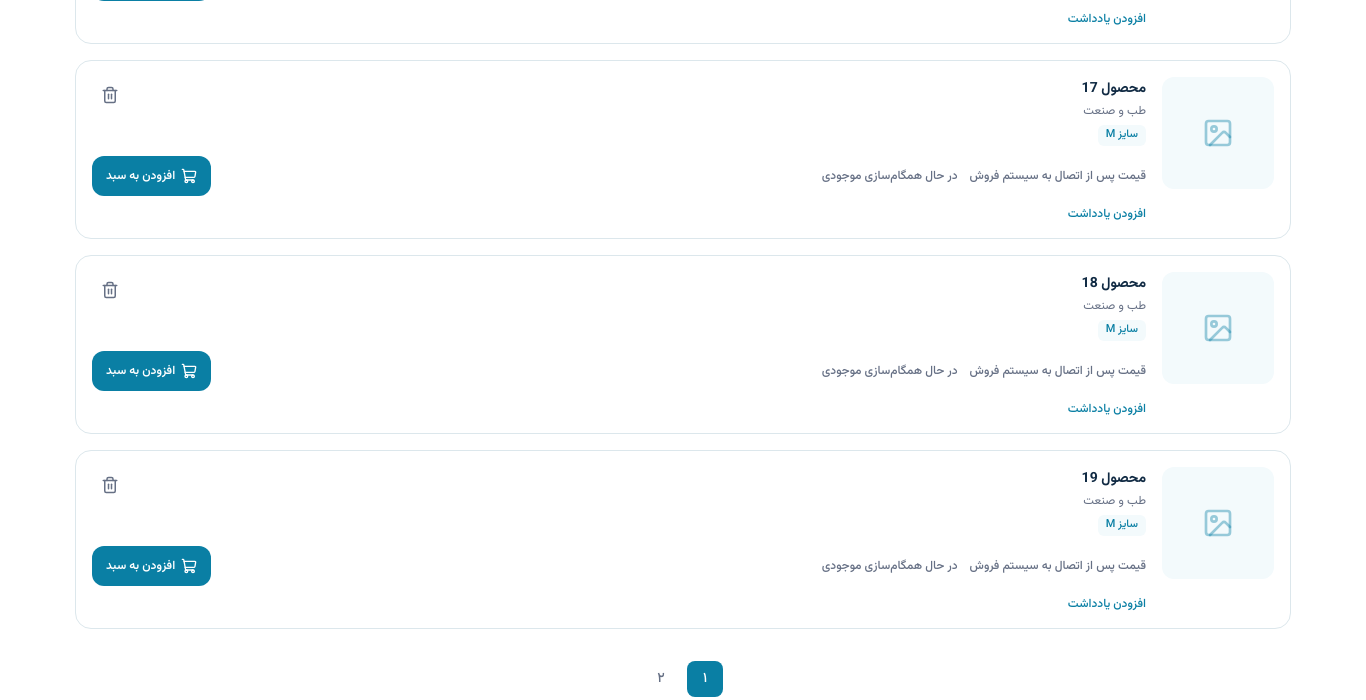
Test: WishlistPage › bounces back to the previous page when removing the last item leaves the current page empty
The image size is (1366, 700).
(page scrolled)
Click the button "۲": click(661, 679) [643,661,679,697]
(page scrolled)
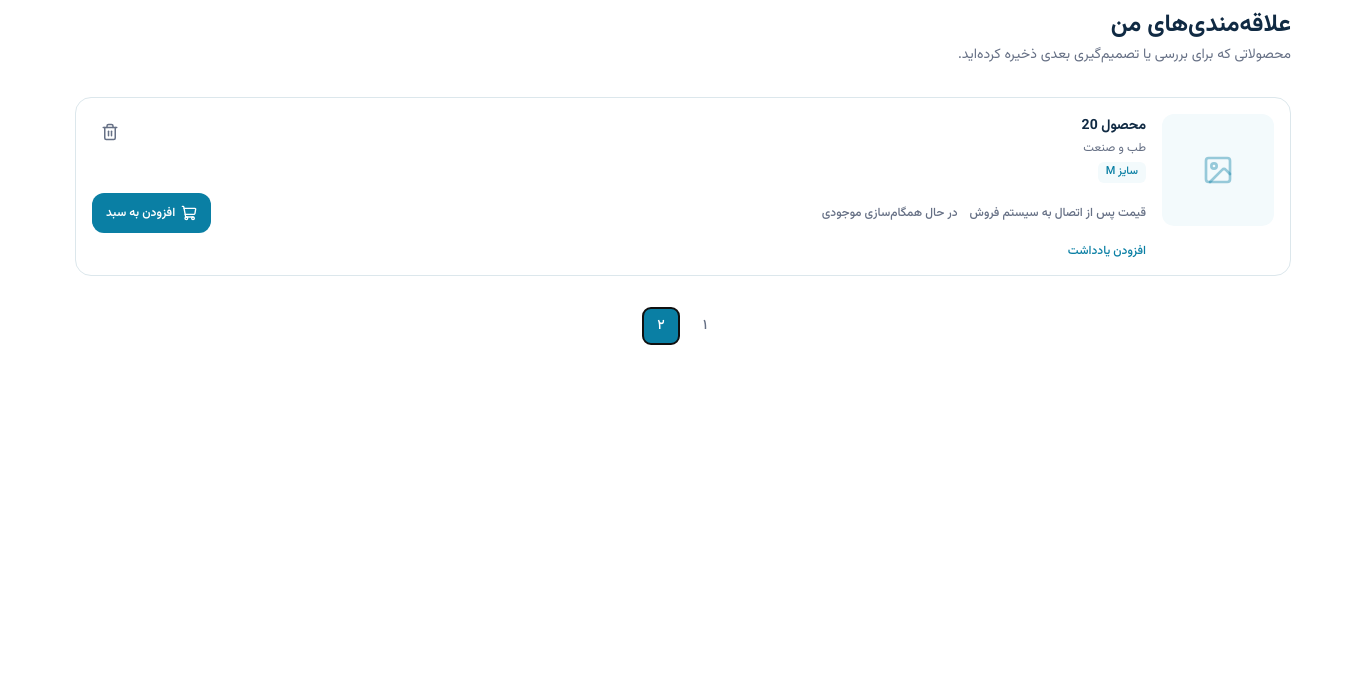
Expected: the link "محصول 20" is shown, [1082,115,1146,137]
Click the button named "حذف محصول 20 از علاقه‌مندی‌ها": click(110, 132) [92,114,128,150]
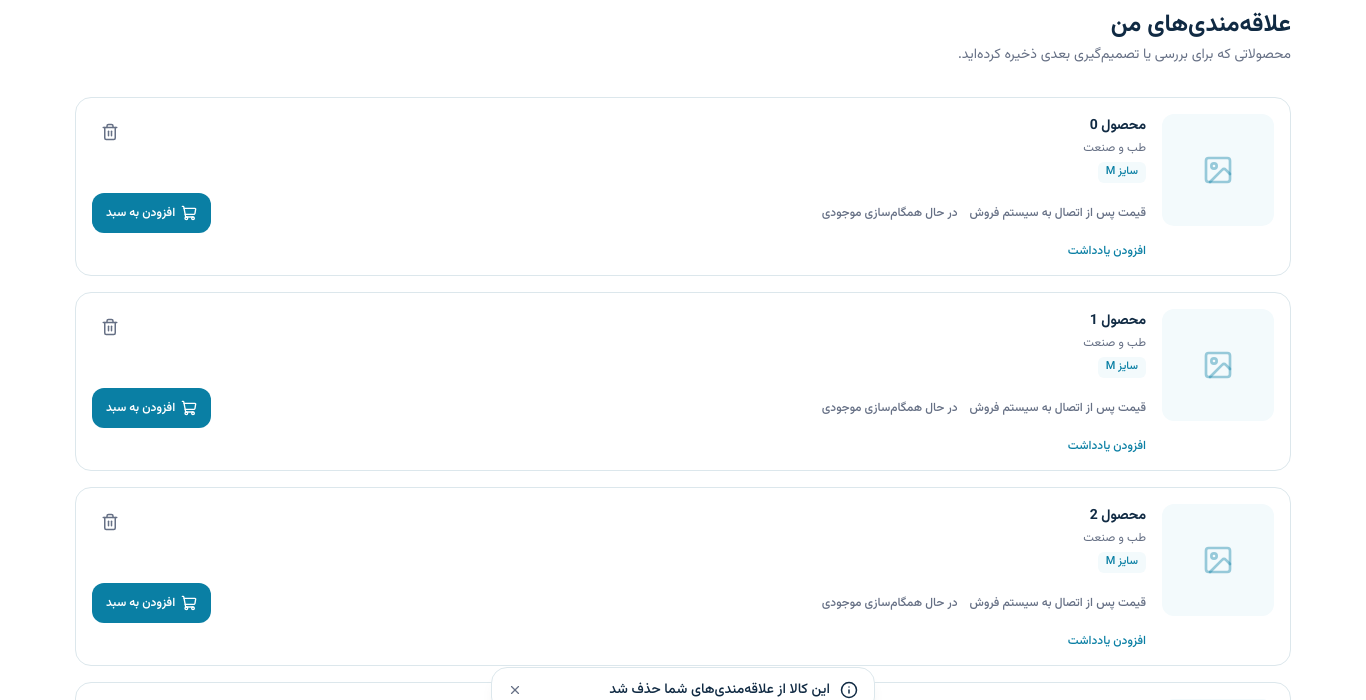
Expected: the link "محصول 0" is shown, [1090,115,1146,137]
Expected: the button "۲" is gone
